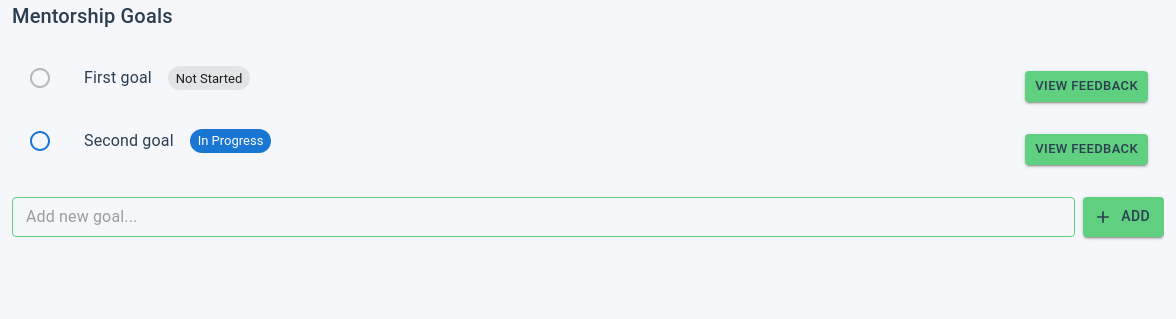
Test case: GoalsSection component › mentee can view feedback
The image size is (1176, 319).
Click the button "View Feedback" in the row of "in progress": coordinates (1087, 149) left=1025, top=134, right=1148, bottom=165
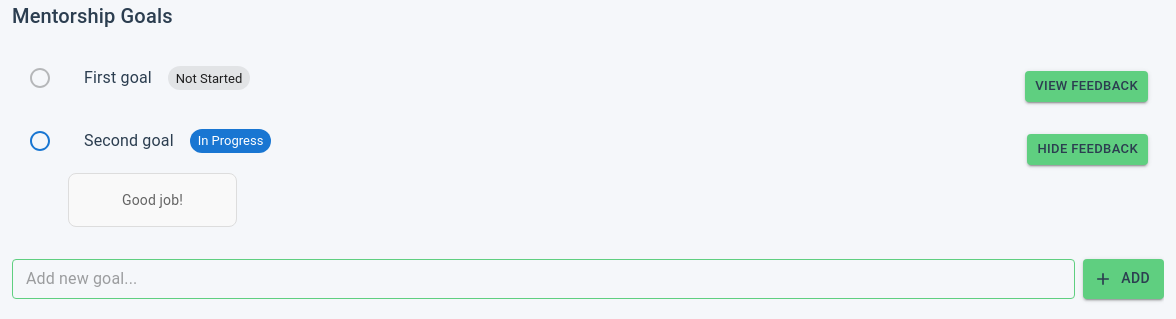
Now the text "Good job!" is shown, box left=122, top=192, right=183, bottom=208
